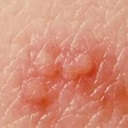Wart: (24, 49, 94, 100)
